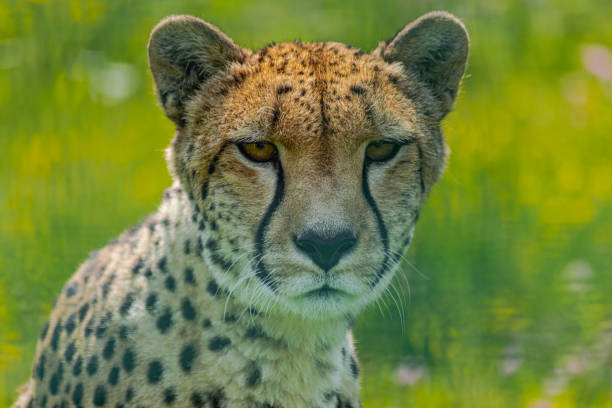cheetah: (129, 4, 491, 336)
